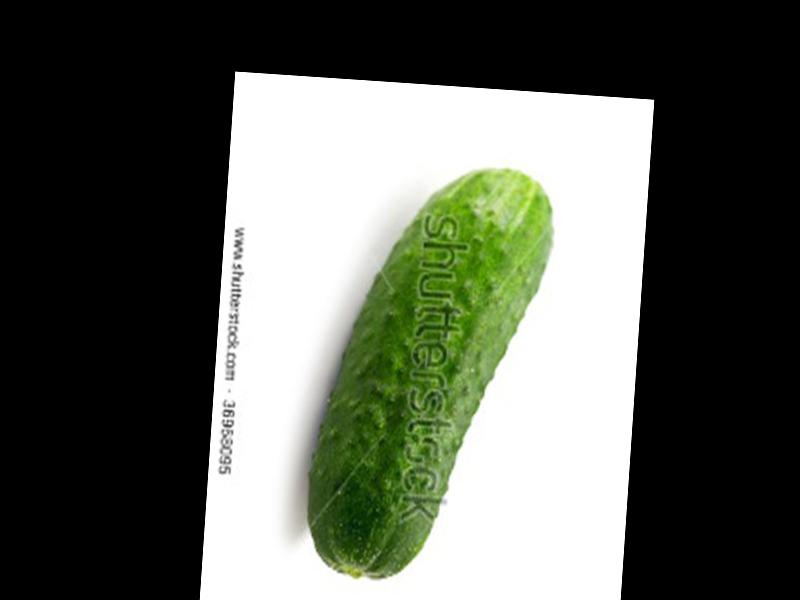Cucumber: (301, 157, 558, 588)
